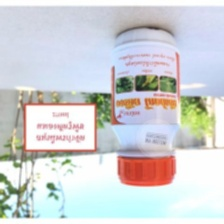insecticide: (107, 22, 183, 189)
